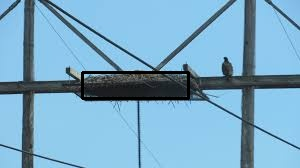bird-nest: (82, 72, 188, 98)
